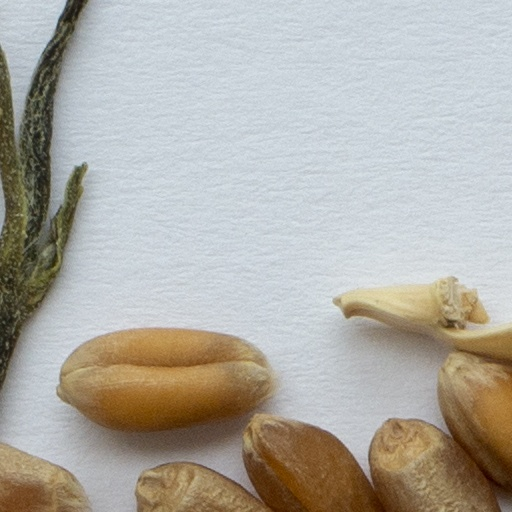Peel-poly: (0, 0, 89, 391), (330, 276, 511, 366)
Wheat-grain-damaged-poly: (0, 439, 91, 511)
Wheat-grain-poly: (52, 322, 277, 436)
